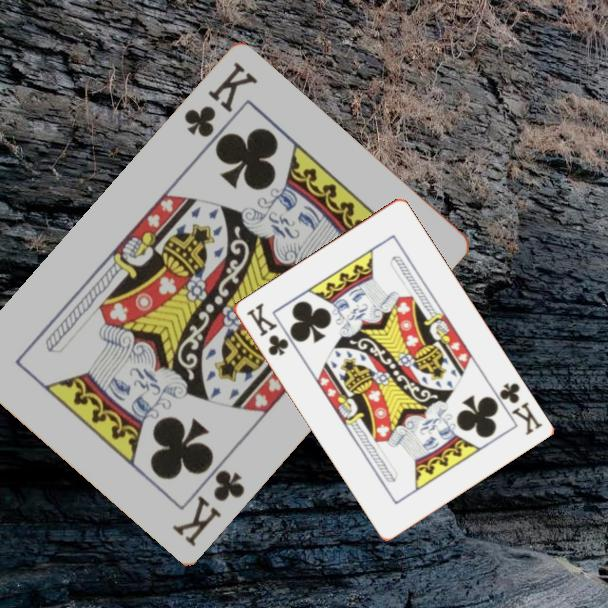c13: (168, 465, 248, 550), (180, 57, 261, 140), (495, 379, 545, 438), (243, 299, 291, 359)
